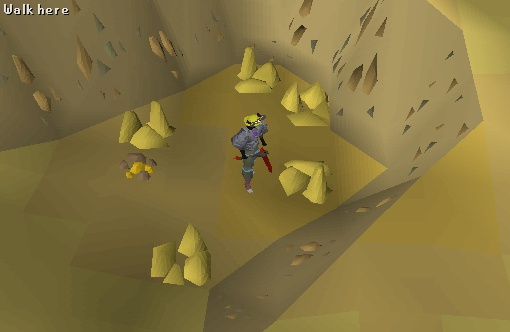gold: (148, 219, 219, 285), (275, 153, 341, 209), (115, 99, 182, 154), (280, 80, 344, 128), (230, 43, 283, 97)
